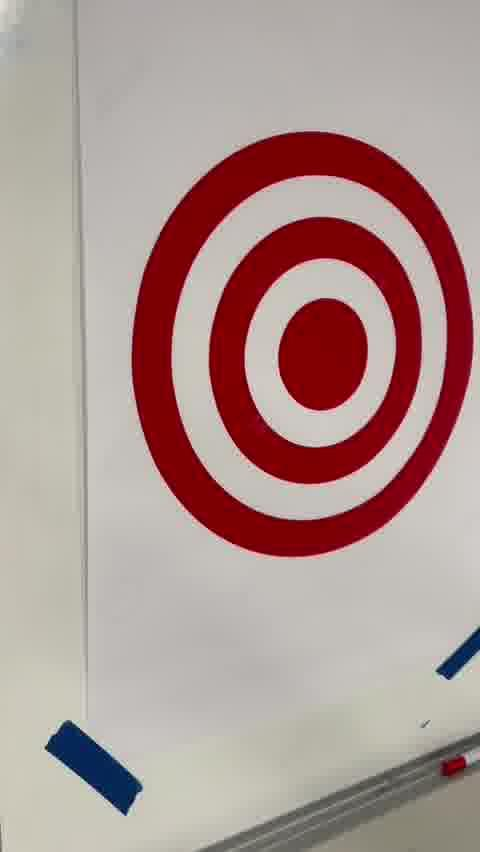target_red: (129, 131, 475, 558)
